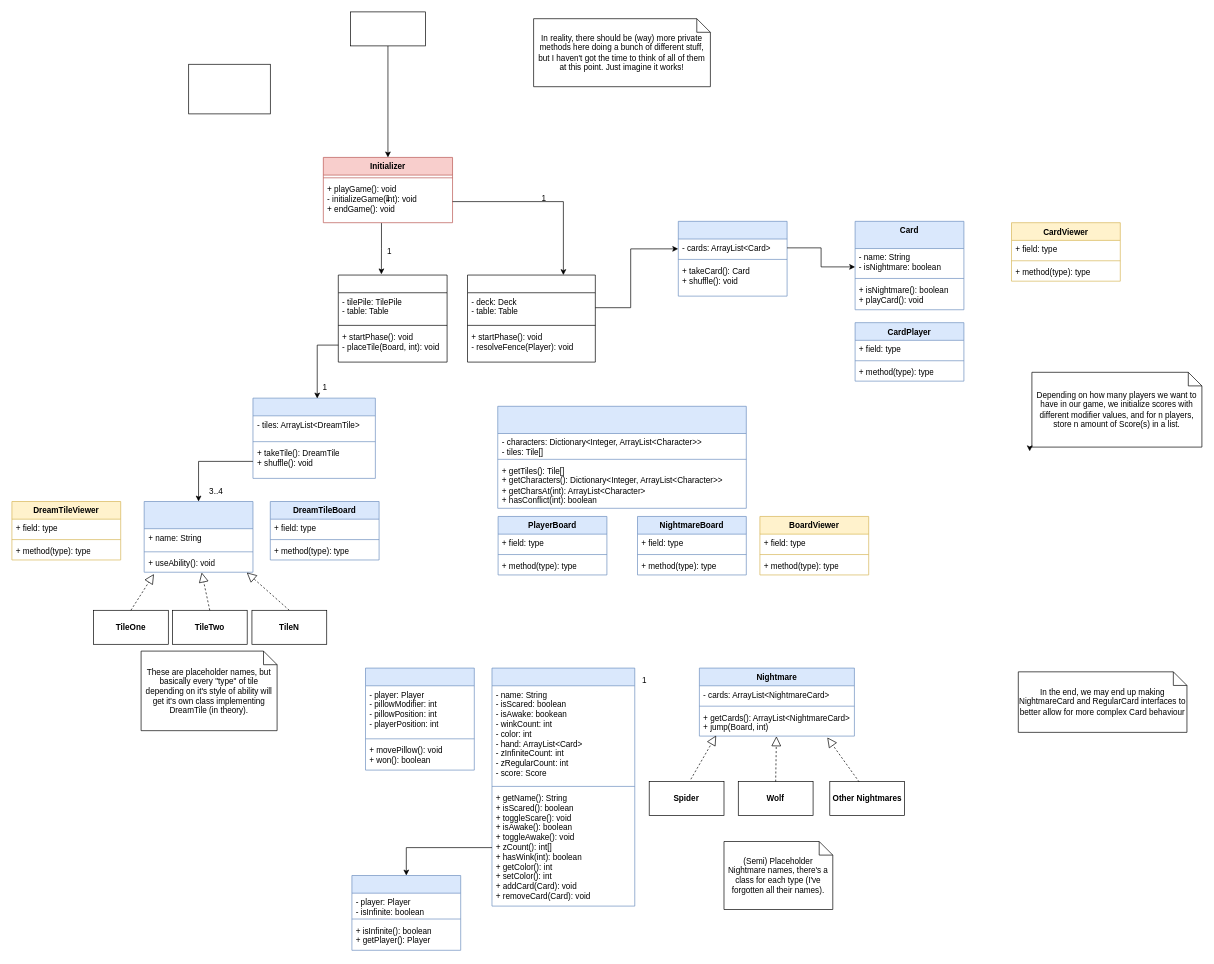
Some shapes in this 1214 by 964 pixel diagram are drawn without their labels. The box of each missing label's shape, as (x1, y1, x2, y2) in pixels:
<<interface>> Board: (497, 406, 746, 508)
<<Interface>> DreamTile: (143, 501, 253, 572)
Console: (350, 11, 425, 46)
Deck: (678, 221, 787, 296)
DreamTileCollection: (252, 397, 375, 478)
MVC! Blue: Model Red: Controller Yellow: Viewer: (188, 64, 270, 114)
Player: (491, 667, 635, 906)
RacingPhase: (467, 274, 595, 362)
RestingPhase: (338, 274, 447, 362)
Score: (365, 667, 474, 770)
zToken: (351, 875, 461, 950)
